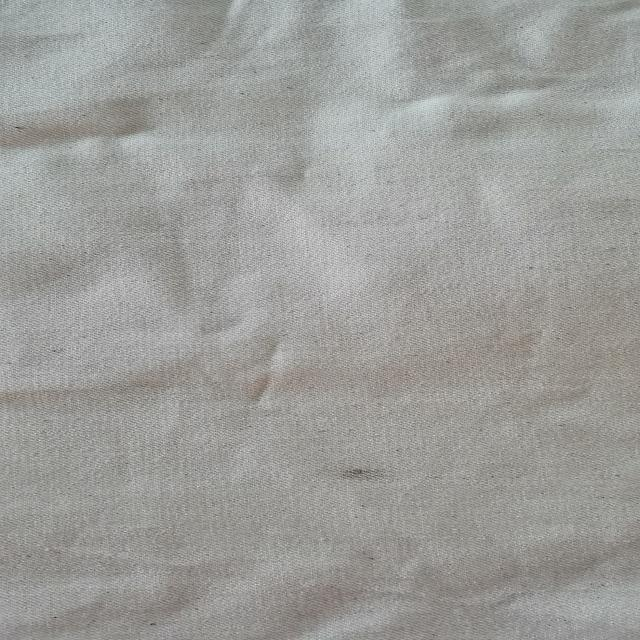taaaches: (321, 461, 414, 507)
